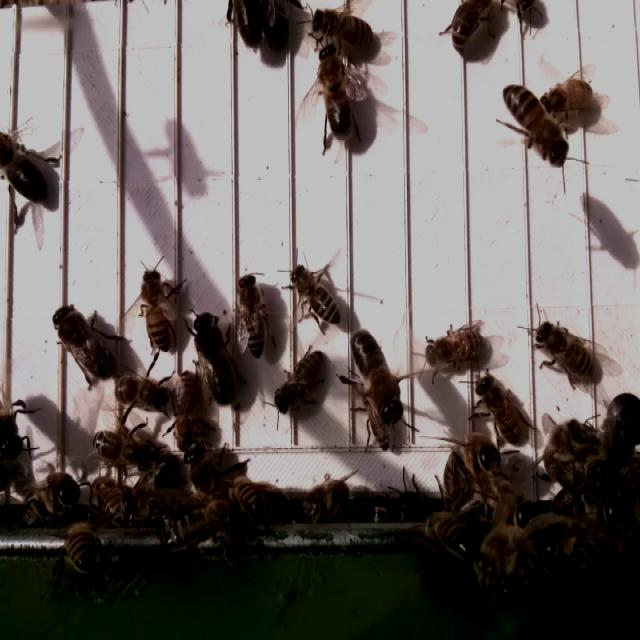Drone: (348, 324, 405, 425), (49, 300, 117, 382), (191, 308, 237, 411), (0, 132, 53, 210), (316, 41, 354, 143)
Worker: (502, 84, 569, 170), (530, 320, 594, 382), (271, 346, 328, 415), (472, 375, 526, 444), (233, 267, 270, 364), (288, 262, 343, 326), (419, 322, 489, 372), (138, 263, 175, 353), (90, 423, 152, 473), (172, 360, 201, 459), (311, 6, 378, 44), (116, 374, 175, 416)
